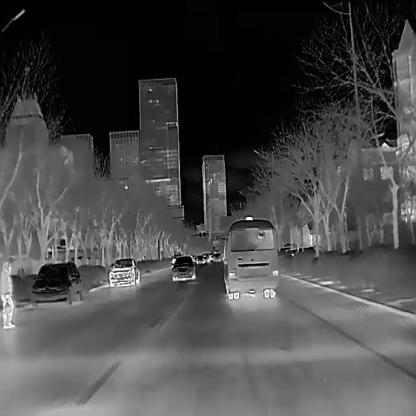bus: (221, 214, 277, 299)
car: (31, 260, 83, 306), (0, 259, 13, 329), (107, 257, 139, 285), (170, 255, 195, 280), (196, 254, 204, 263), (203, 252, 209, 262)
